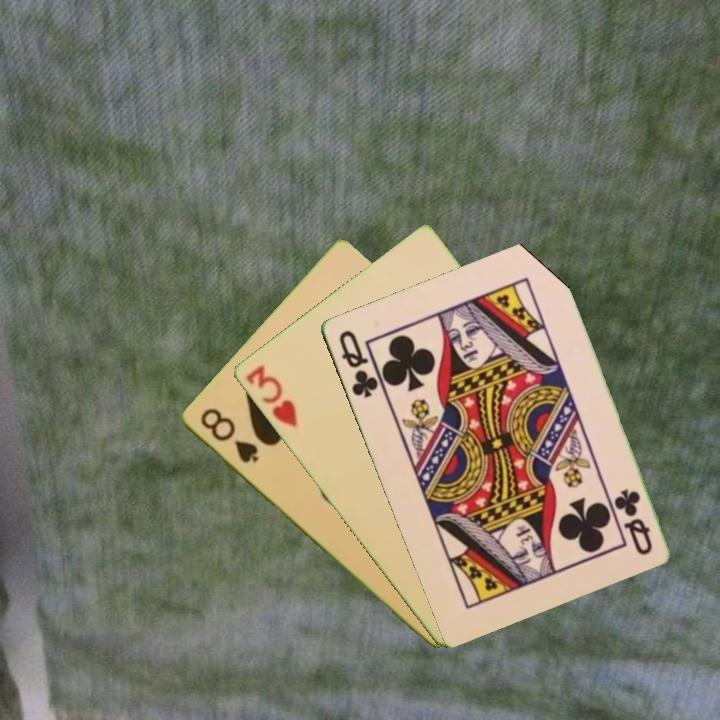3h: (242, 361, 300, 431)
8s: (196, 404, 261, 466)
Qc: (334, 326, 381, 401), (611, 484, 655, 558)
